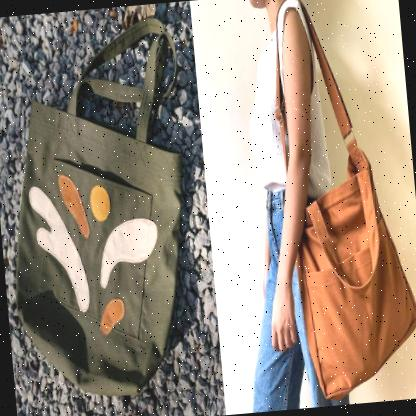bag: (0, 7, 213, 416), (269, 146, 416, 409)
person: (199, 0, 365, 414)
